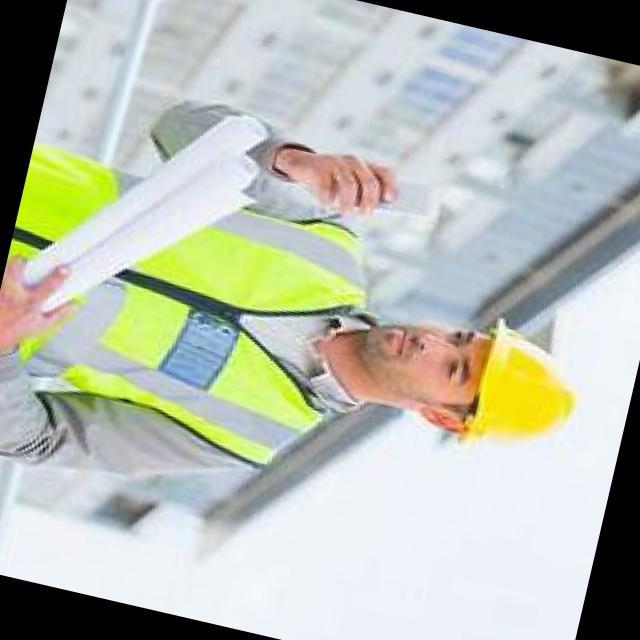not-gloved: (274, 126, 416, 227), (0, 252, 88, 374)
